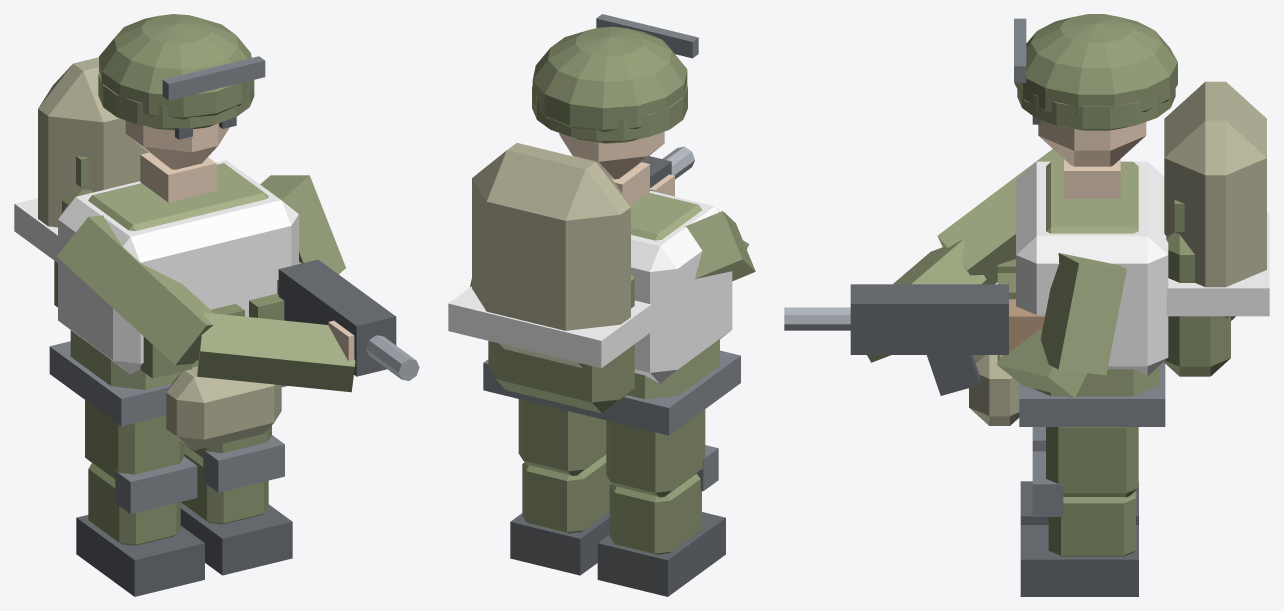
The model's file is paratrooper.glb.
The picture shows the model from 3 angles, left to right: view 1: azimuth 30°, elevation 25°; view 2: azimuth 150°, elevation 25°; view 3: azimuth 270°, elevation 25°; orthographic projection.
Visible parts, largest first — view 1: main, shinl, shinr, legl, legr; view 2: main, shinl, shinr, legl, legr; view 3: main, shinr, legr, shinl.
Boxes of the visible parts, x1,y1,x2,y2 form: main: (14, 14, 419, 450); shinl: (76, 456, 204, 596); shinr: (180, 435, 292, 575); legl: (85, 400, 184, 479); legr: (184, 425, 271, 458); main: (448, 14, 755, 435); shinl: (597, 445, 725, 596); shinr: (510, 454, 611, 575); legl: (606, 409, 705, 497); legr: (518, 399, 606, 475); main: (784, 14, 1269, 426); shinr: (1020, 451, 1138, 596); legr: (1046, 427, 1138, 497); shinl: (1020, 427, 1138, 524).
Size of the model in its own units: 0.3161 by 0.5733 by 0.4719.
